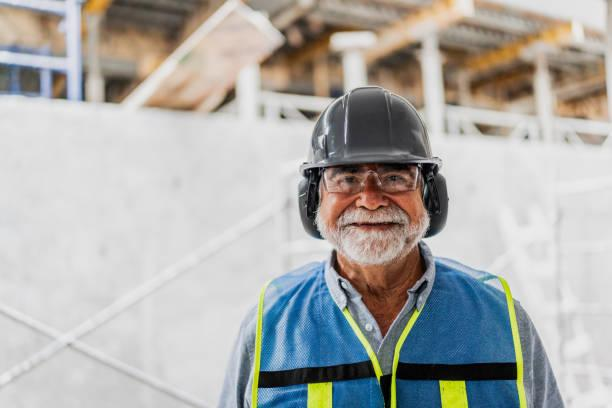goggle: (318, 162, 434, 196)
helmet: (295, 77, 446, 175)
vest: (251, 248, 534, 408)
